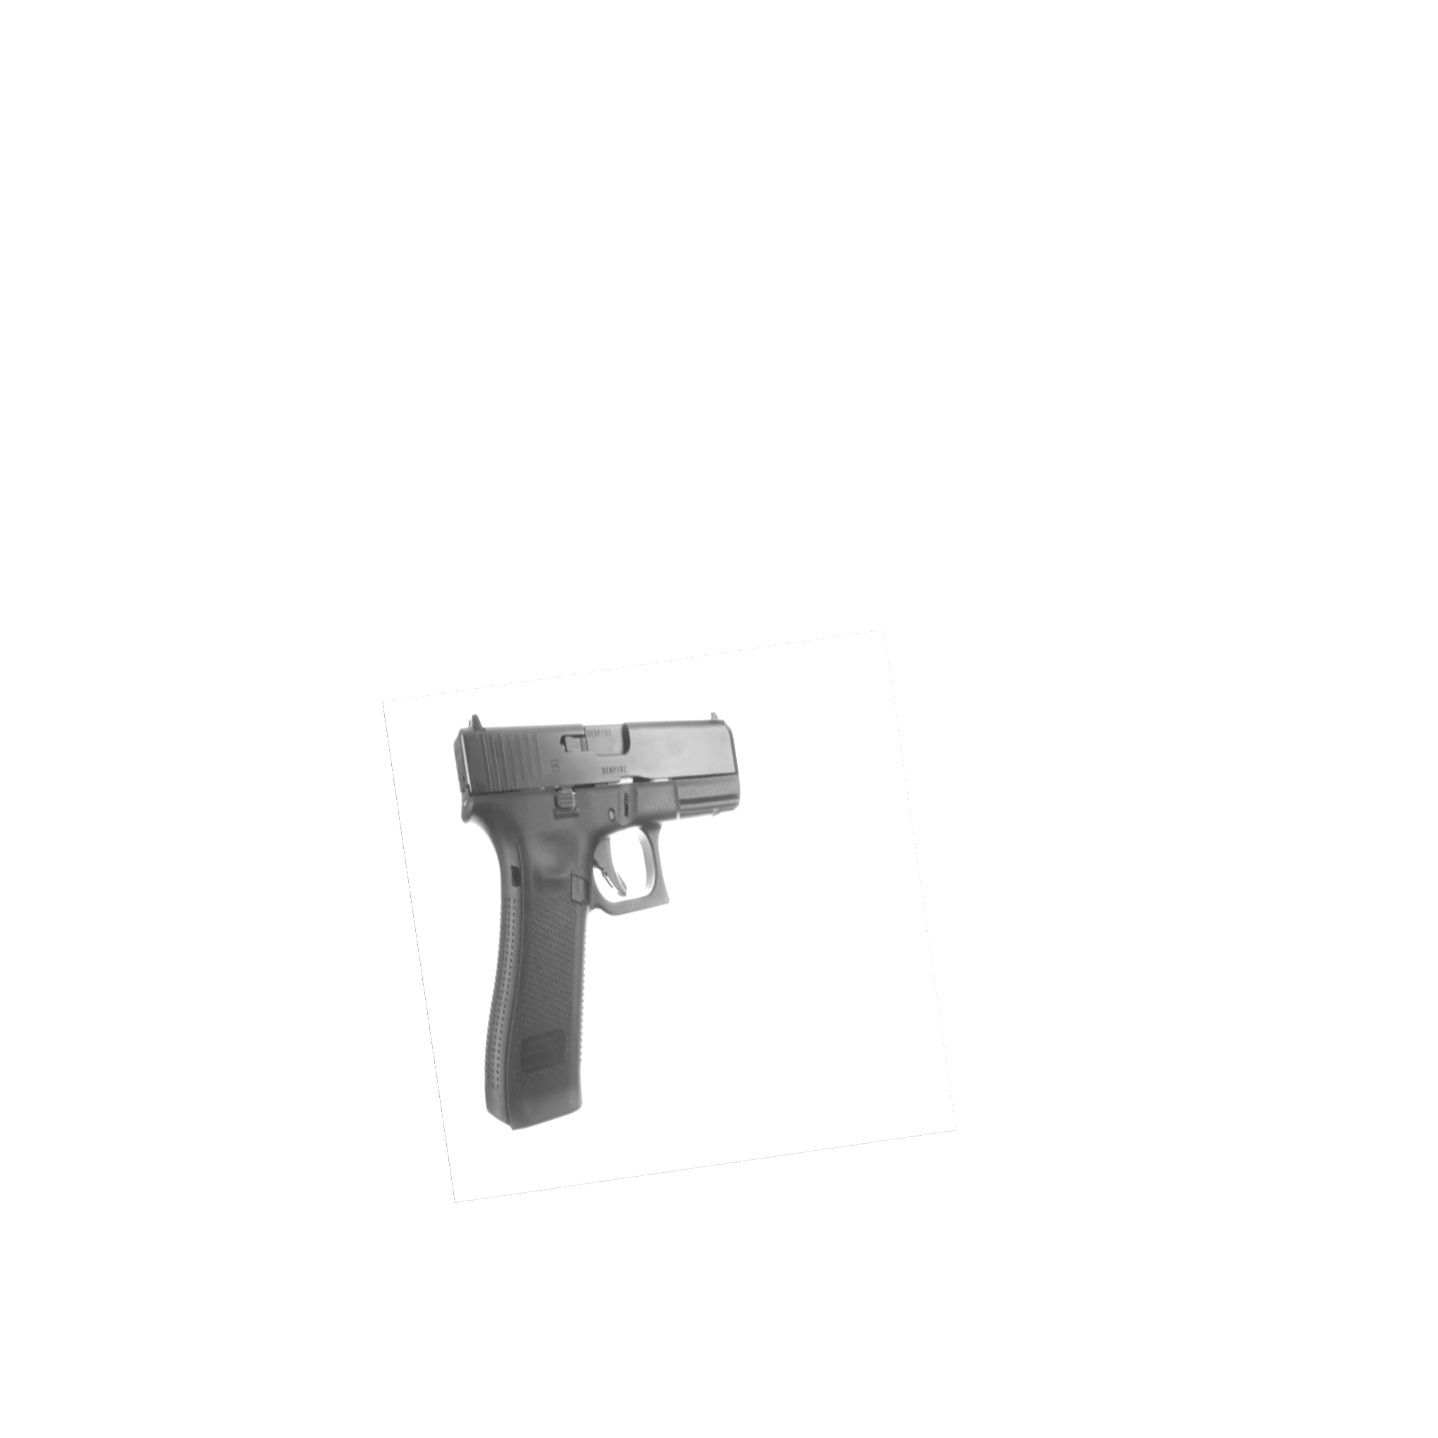gun: (453, 712, 739, 1130)
